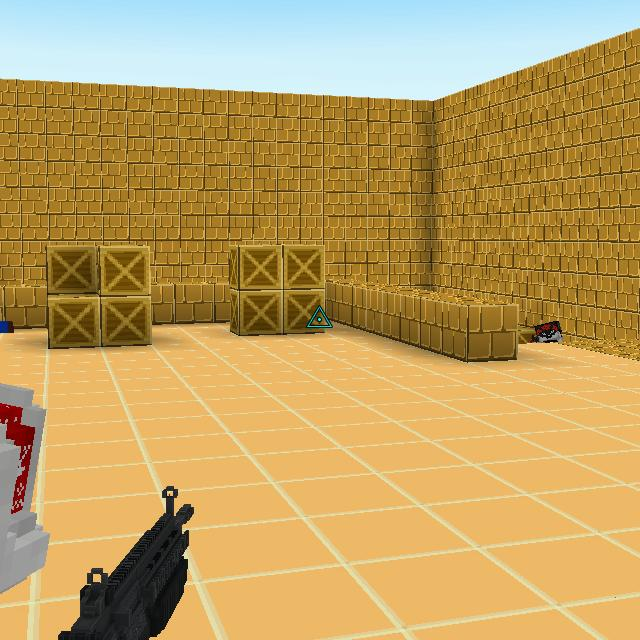enemy: (530, 320, 564, 345)
